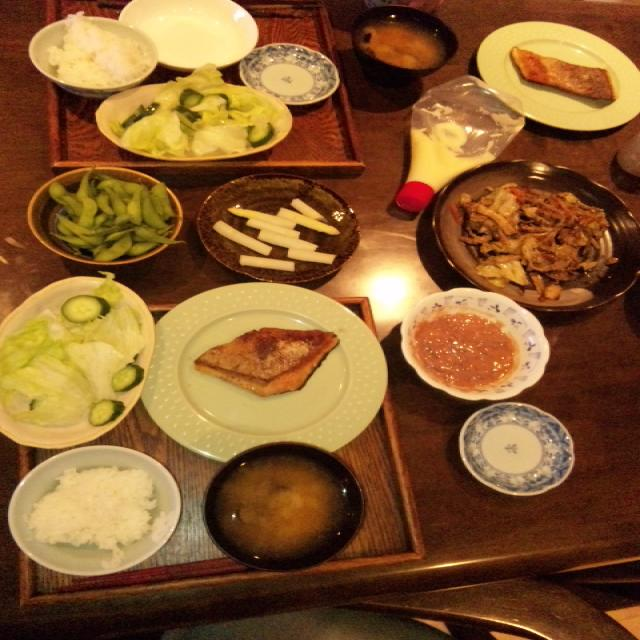汤锅炖物: (198, 438, 366, 579), (352, 4, 461, 97)
熟制海鲜: (138, 273, 390, 492)
米饭主食: (0, 440, 184, 582), (27, 8, 160, 115)
蔬菜料理: (0, 264, 156, 449), (86, 68, 302, 166)
